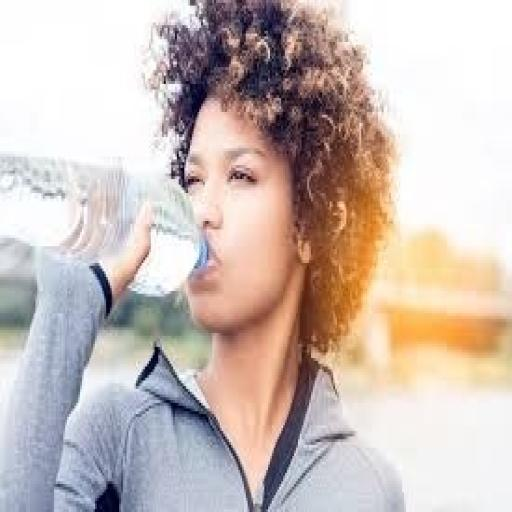drinking: (0, 148, 209, 297)
